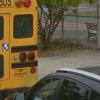Bus: (1, 0, 40, 93)
